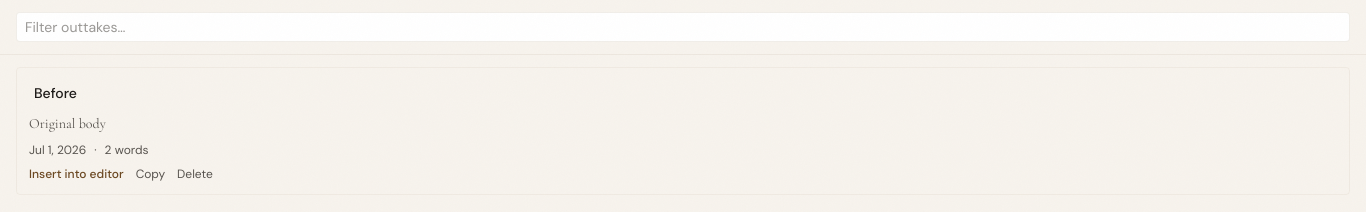
OuttakesPanel › updates in place using the SERVER-returned row, not the local draft
Expected: the text "Original body" is shown, [29, 115, 106, 132]
Replace the text in the field showing "Before" with "After". click: (683, 93)
box: [29, 80, 1337, 106]
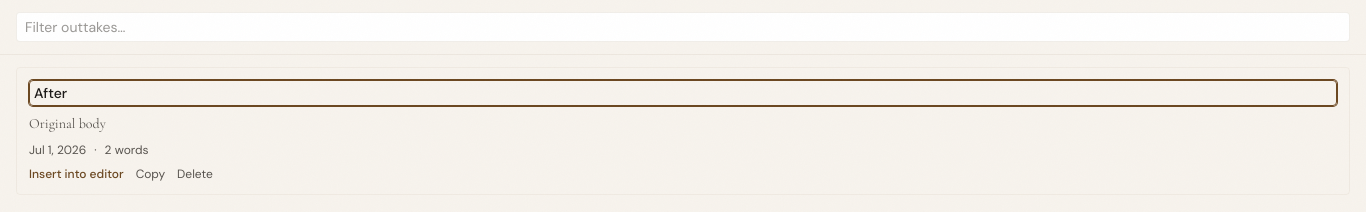
Press Tab
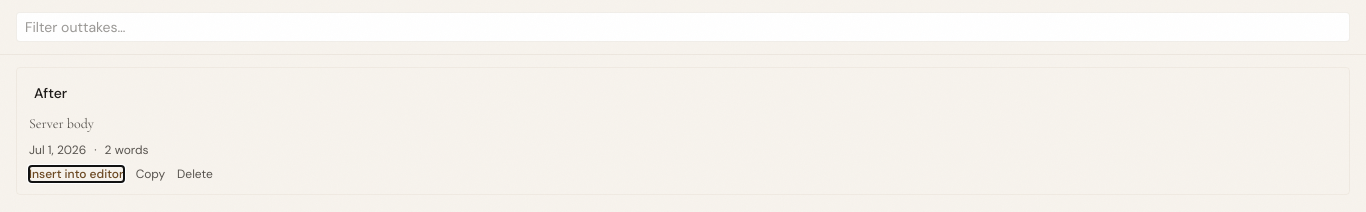
Expected: the text "Server body" is shown, [29, 115, 94, 132]
Expected: the text "Original body" is gone
